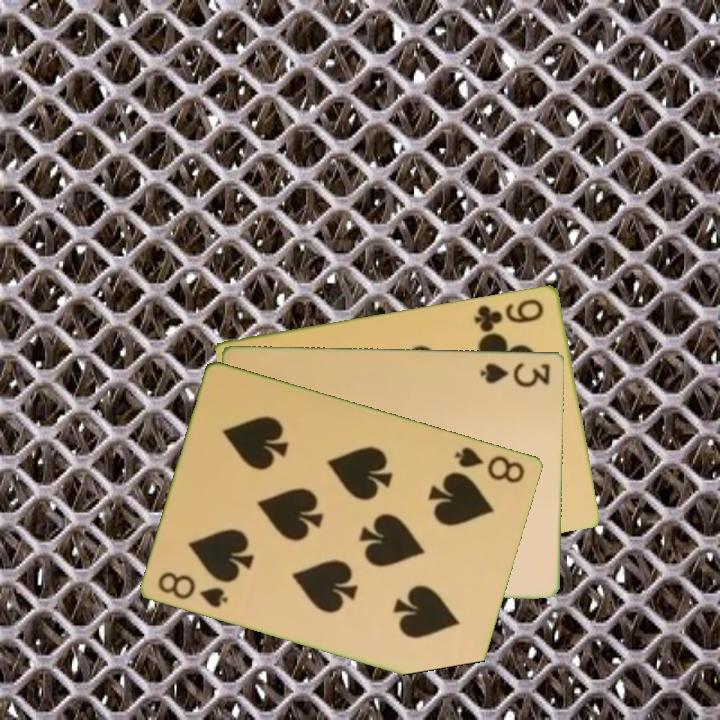3s: (477, 359, 553, 389)
8s: (451, 442, 528, 486), (155, 568, 232, 611)
9c: (471, 294, 547, 334)
